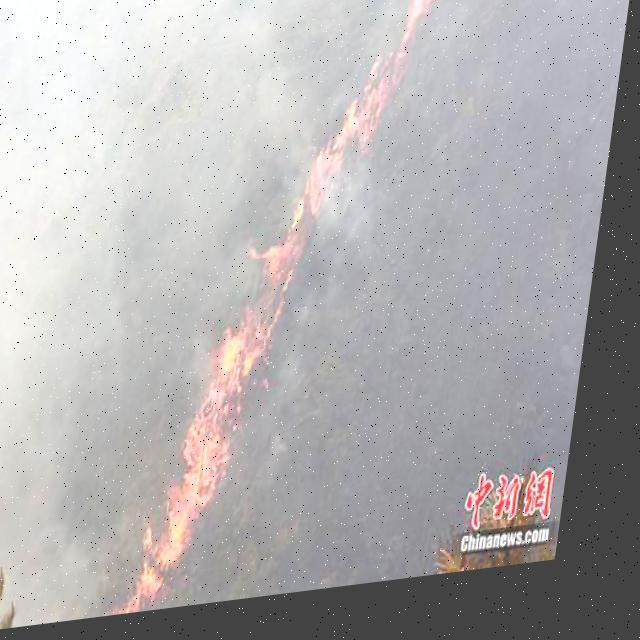Fire: (120, 0, 454, 620)
